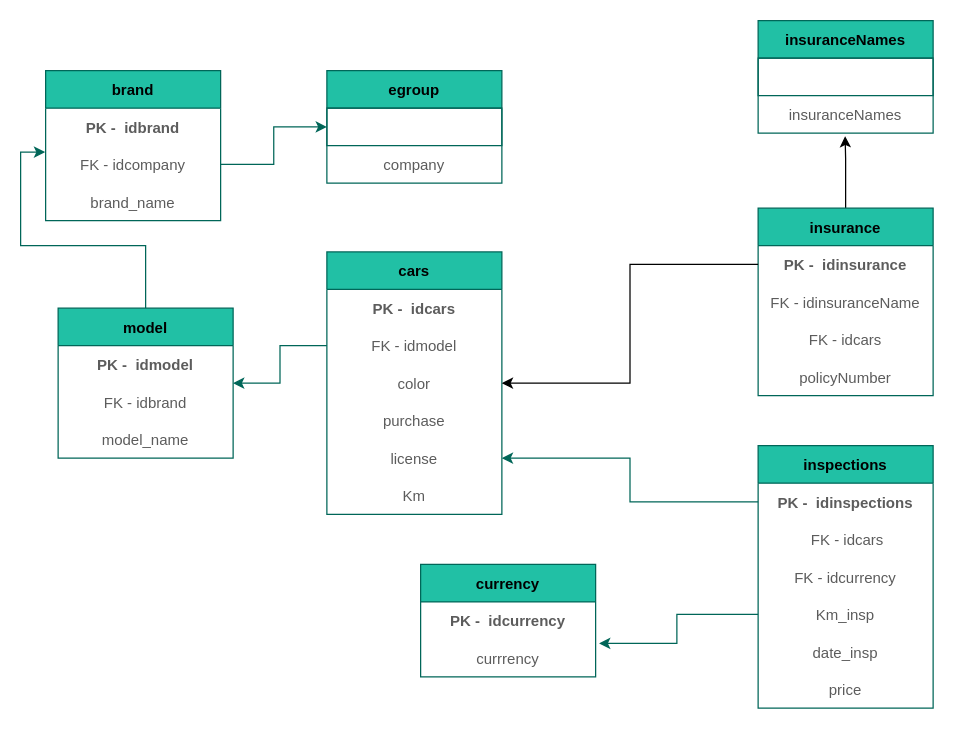
Image size: 954x729. Some labels were removed from this diagram. The centre of each missing label's shape, as x and y in pixels:
"PK - idcompany" goes at (x=414, y=126).
"PK - idinsuranceNames" goes at (x=845, y=76).
